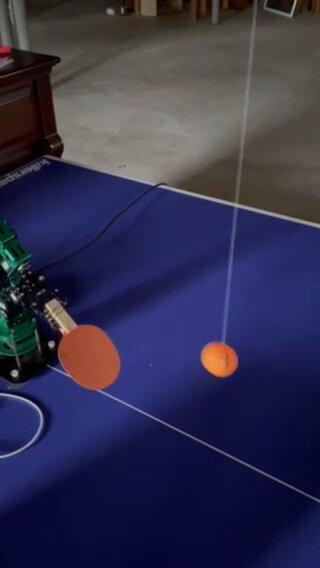oball: (200, 339, 241, 377)
